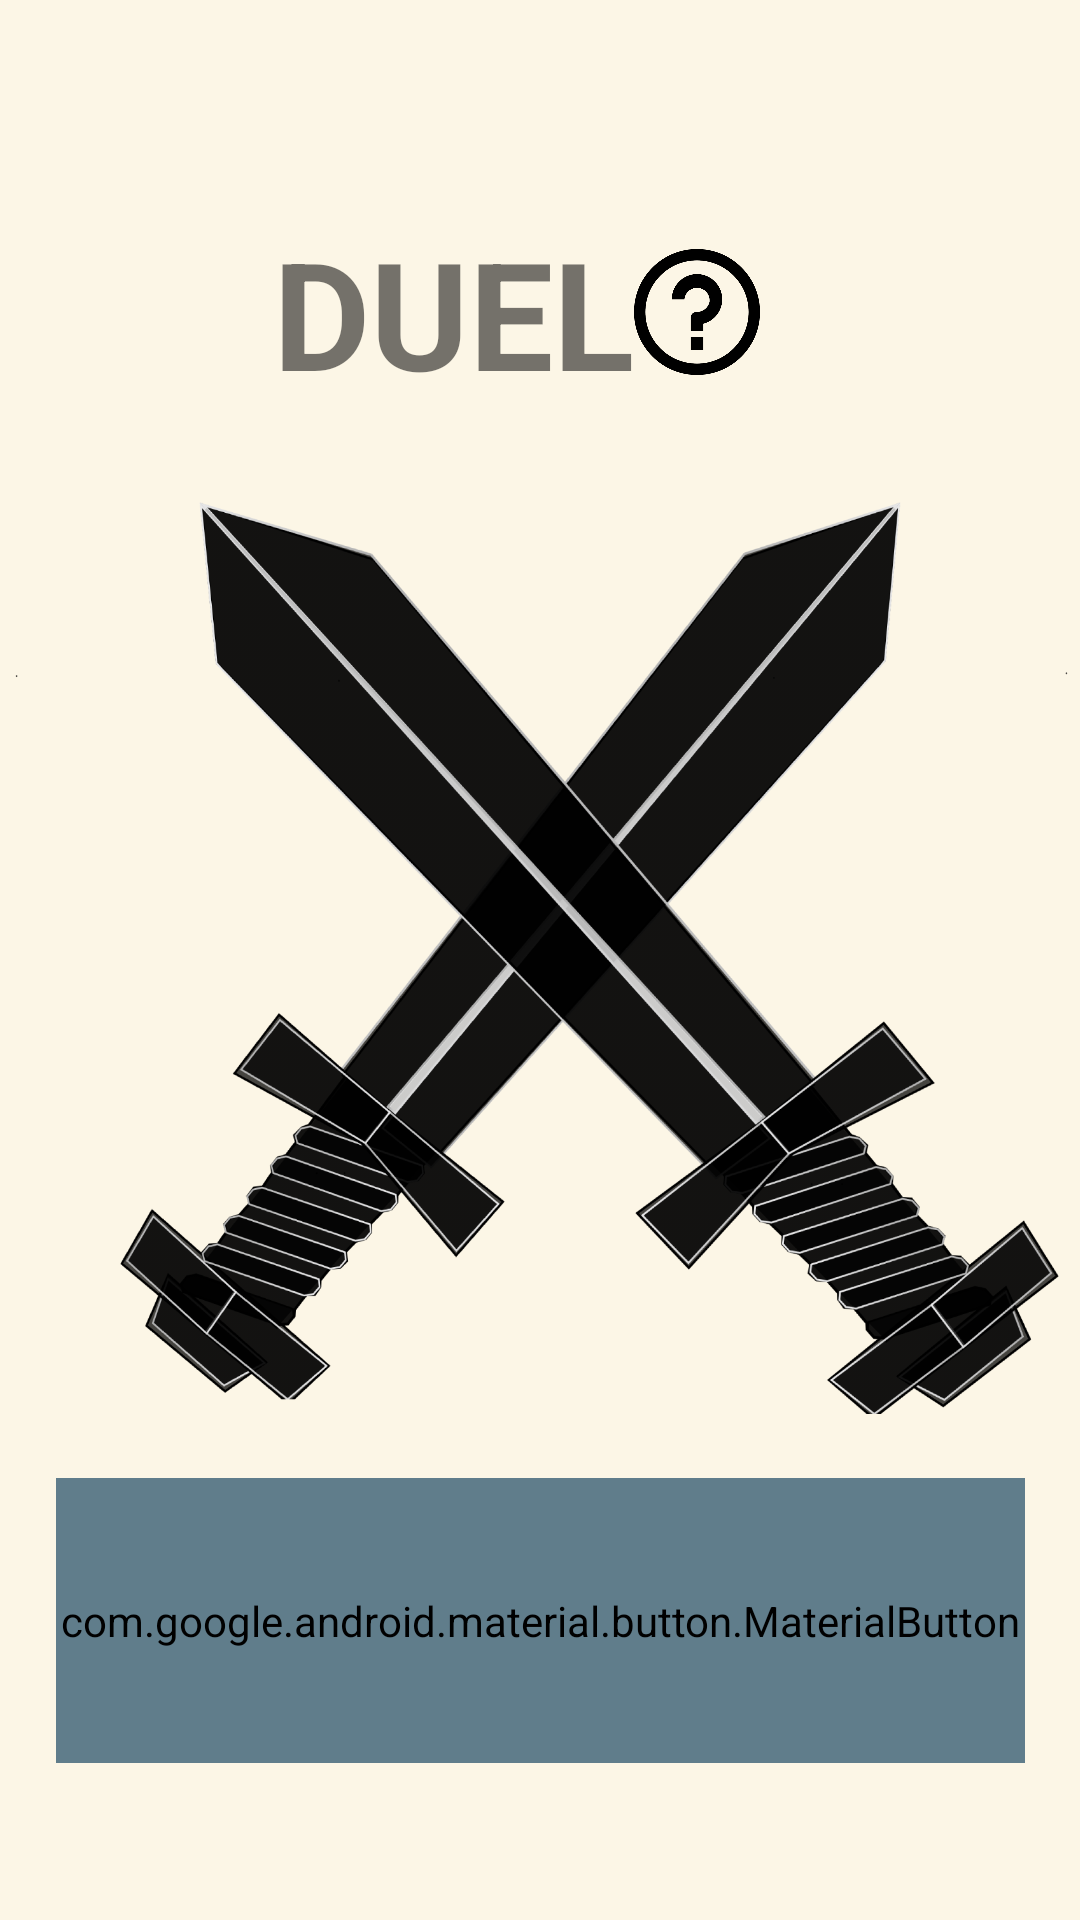

Where icons sit on this 1080x1920 app screen, as (x1, y1, x2, y2):
help: (634, 249, 760, 375)
